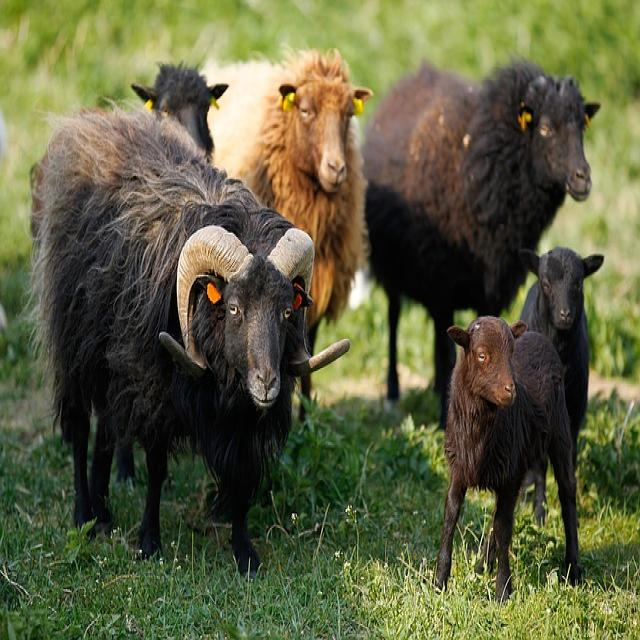goat: (34, 111, 348, 574), (364, 62, 598, 423), (204, 51, 372, 348), (435, 316, 581, 599), (521, 247, 604, 463), (131, 64, 228, 157)
